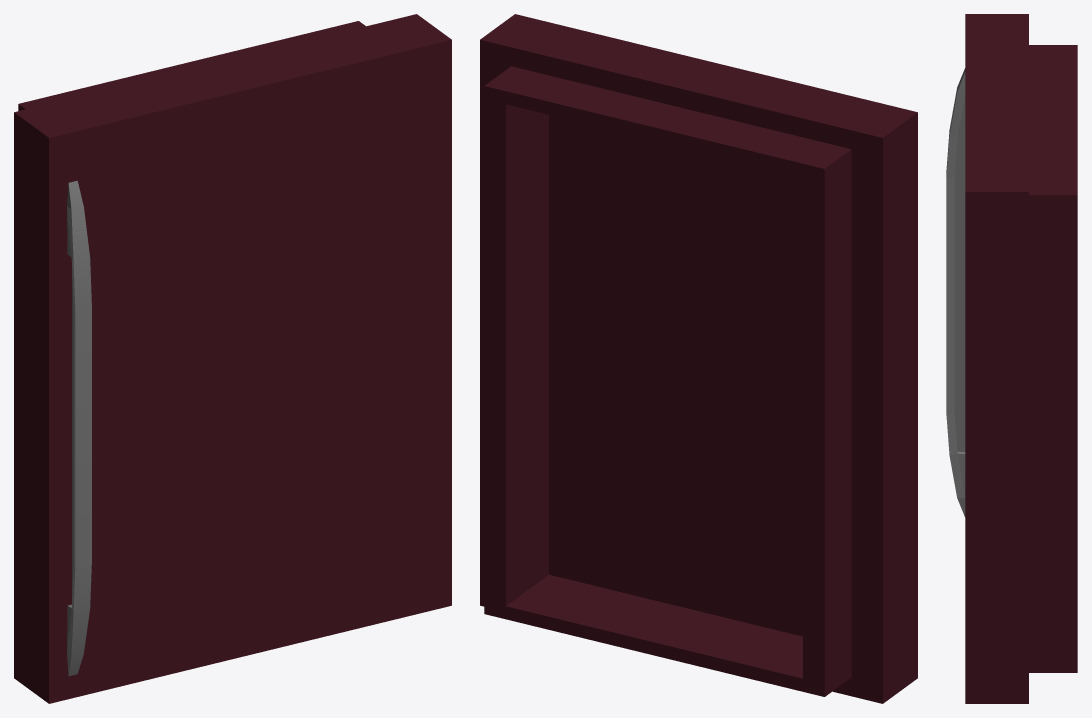
The model's file is Itr_Obj_Fridge2_Top_Door_04.FBX.
3 views of the same model, side by side, from view 1: azimuth 30°, elevation 25°; view 2: azimuth 150°, elevation 25°; view 3: azimuth 270°, elevation 25° (orthographic). The views are drawn at different scales.
Parts seen in each view (by area): view 1: Itr_Obj_Fridge2_Top_Door_04; view 2: Itr_Obj_Fridge2_Top_Door_04; view 3: Itr_Obj_Fridge2_Top_Door_04.
Boxes of the visible parts, x1,y1,x2,y2 form: Itr_Obj_Fridge2_Top_Door_04: (14,14,451,703); Itr_Obj_Fridge2_Top_Door_04: (480,14,917,703); Itr_Obj_Fridge2_Top_Door_04: (946,14,1077,703).
Size of the model in its own units: 34.44 by 46.23 by 10.74.
